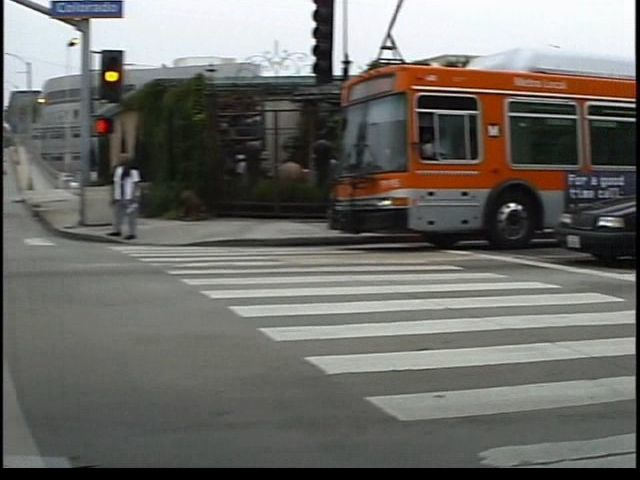person: (119, 151, 156, 247)
